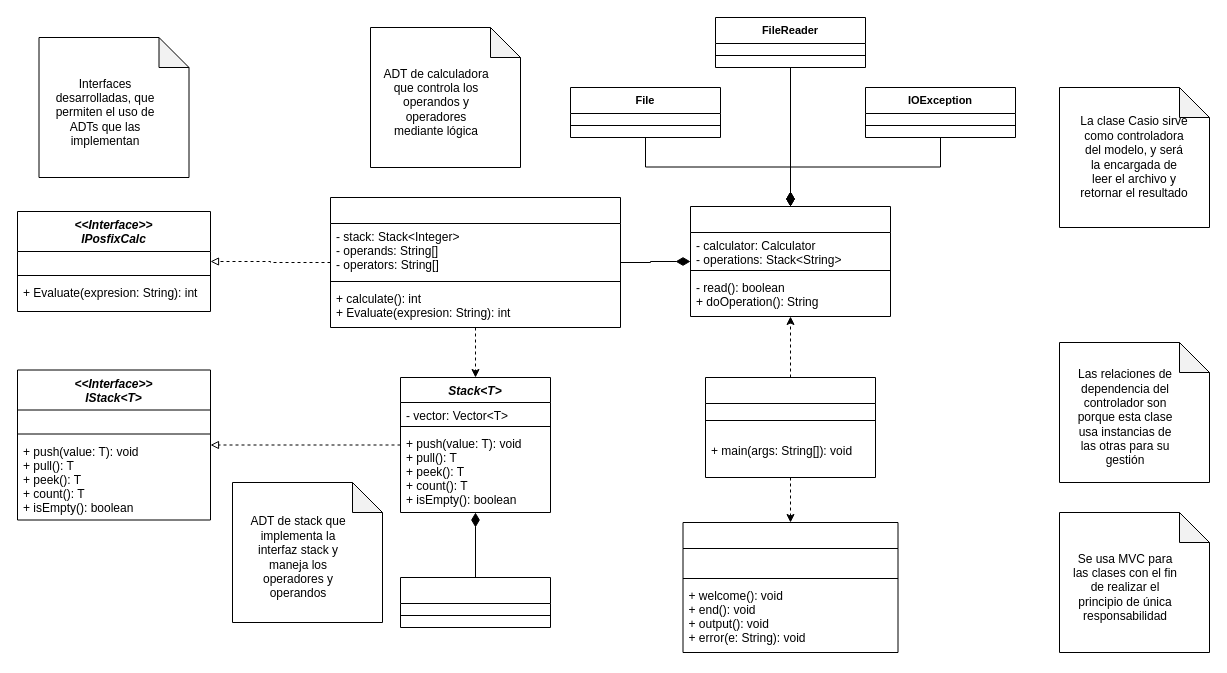
Image size: 1227x673. Some labels were removed from this diagram. Here are the shapes that lost their labels. From the top down, the box of each, then its label:
(330, 196, 620, 328): Calculator
(690, 206, 890, 316): Casio
(704, 376, 876, 478): Controller
(400, 576, 550, 628): Vector
(682, 522, 898, 652): View
